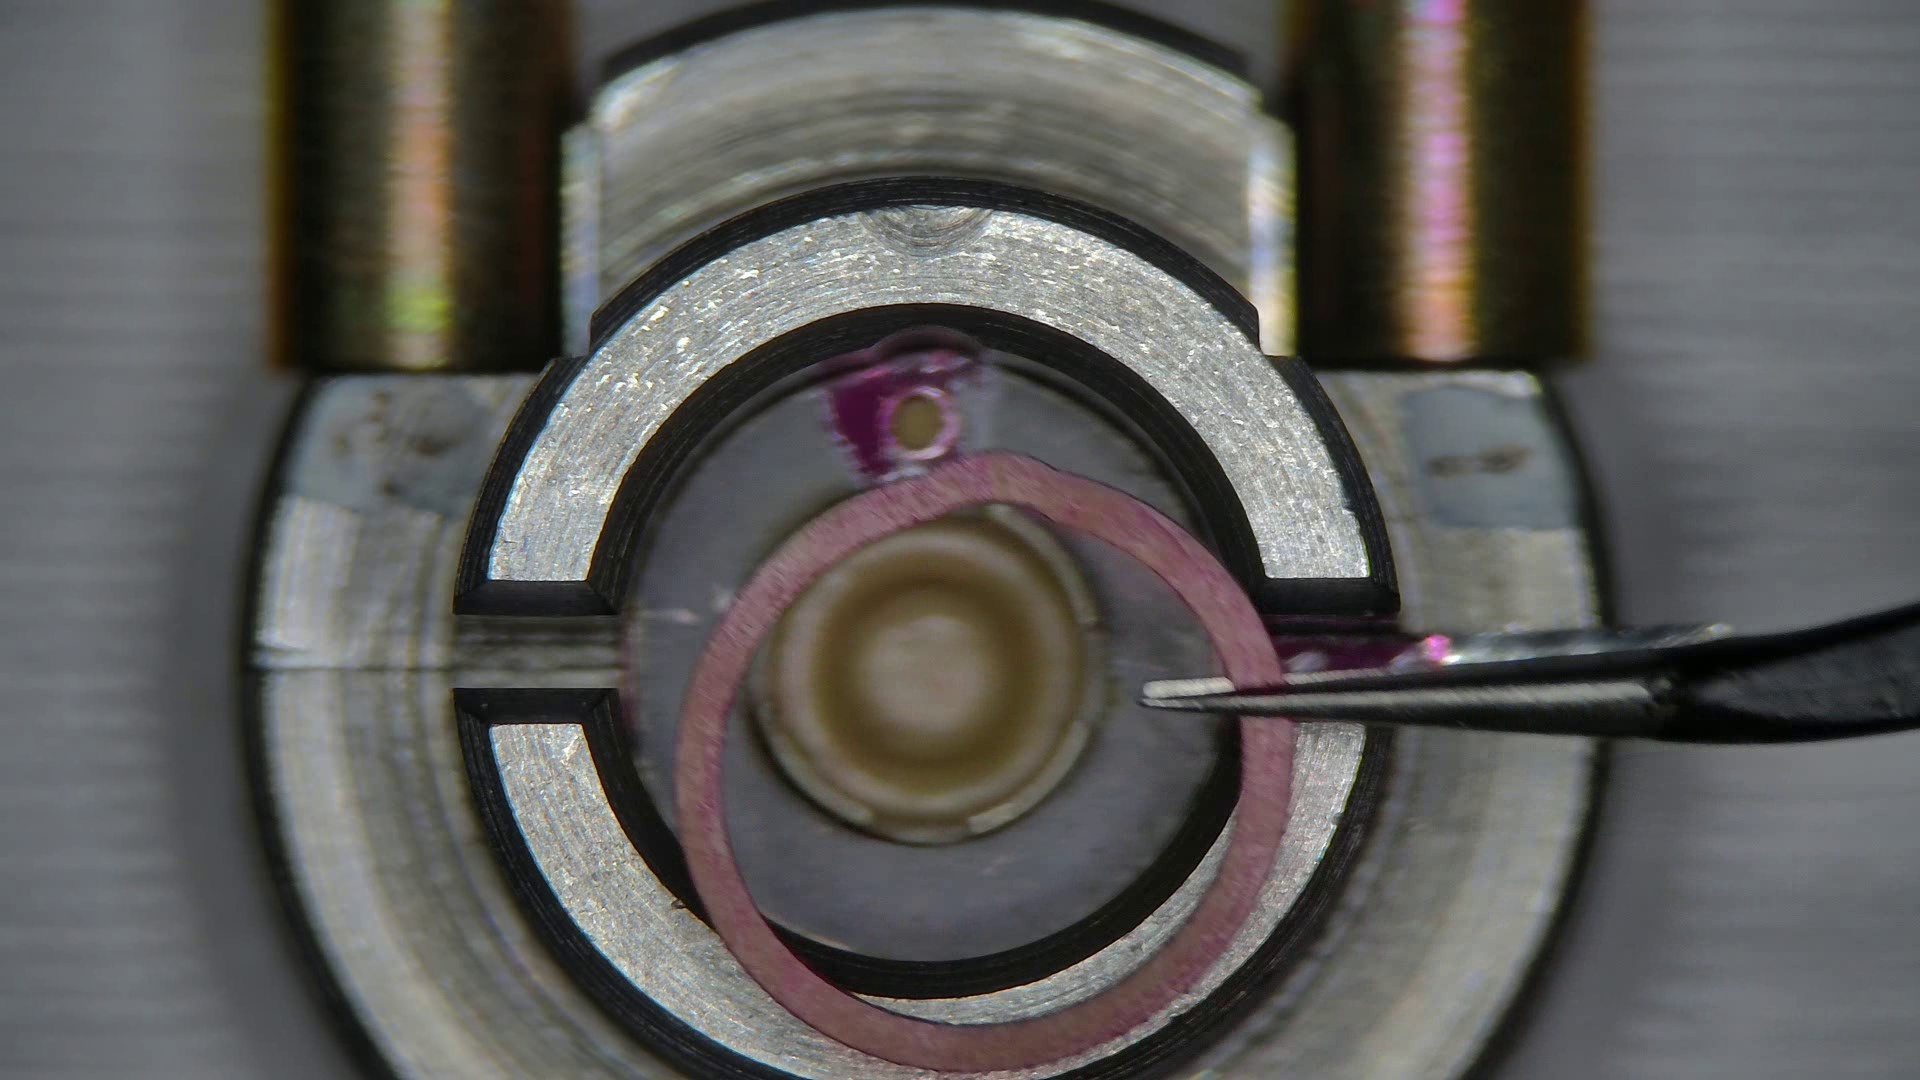GreyOring: (669, 453, 1290, 1072)
YellowOring: (627, 352, 1193, 803), (721, 522, 1215, 962)
